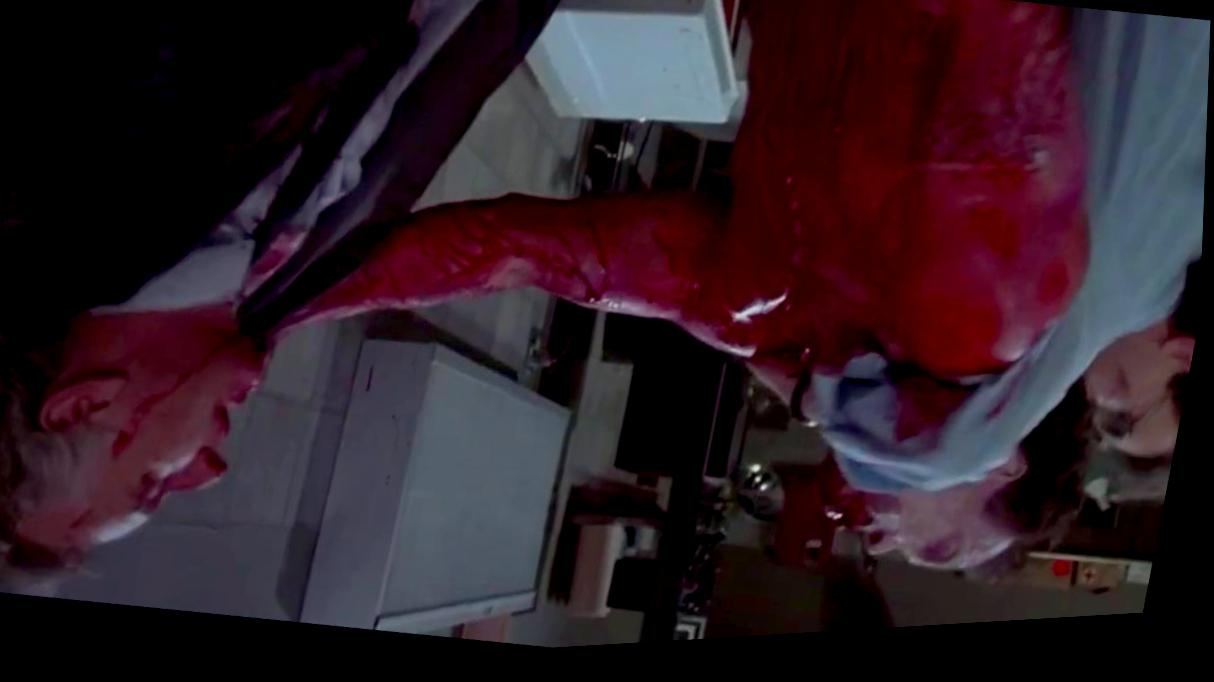Fire: (301, 0, 1093, 405), (100, 309, 269, 542), (819, 465, 905, 568)
